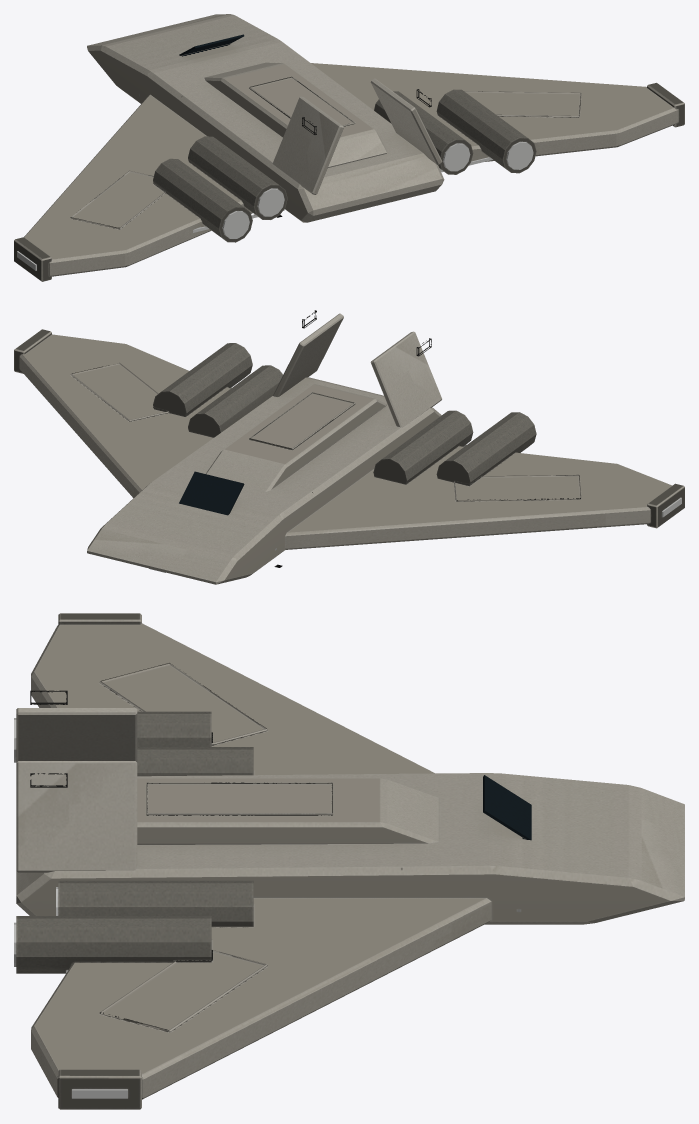
Rendered from ord_liche.fbx.
3 renders of one model, top to bottom at view 1: azimuth 30°, elevation 25°; view 2: azimuth 150°, elevation 25°; view 3: azimuth 270°, elevation 25°, orthographic. The views are drawn at different scales.
Visible parts, largest first — view 1: base_bar, base_glow_power_bar; view 2: base_bar; view 3: base_bar.
Part boxes in pixels (bbox=[...]): base_bar: bbox=[14, 14, 684, 281]; base_glow_power_bar: bbox=[223, 142, 533, 238]; base_bar: bbox=[14, 310, 684, 584]; base_bar: bbox=[16, 613, 684, 1109].
Bounding box in the file's own units: 2369 × 605 × 1442.
2 materials, 2 textured.
